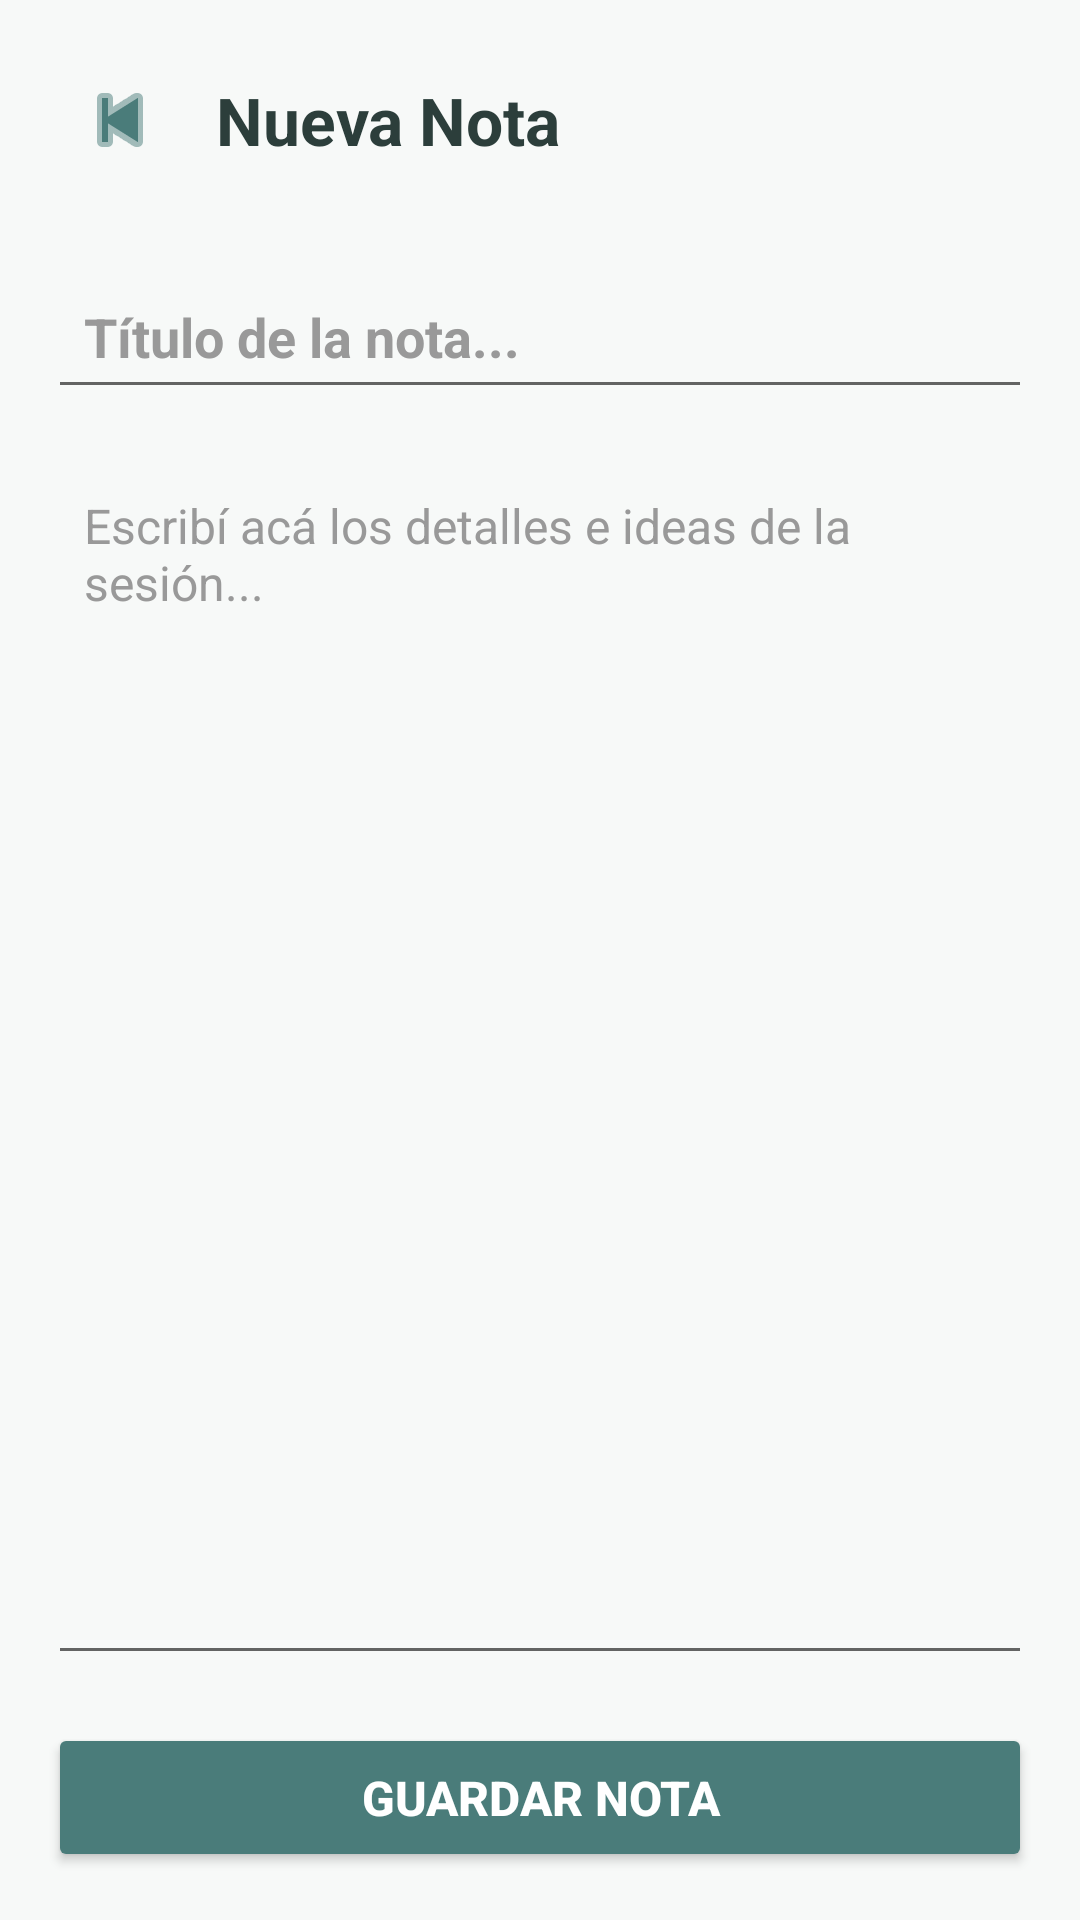

Icon bounding boxes for this 1080*1920 phone screenshot, format (x1, y1, x2, y2):
Volver: (97, 93, 143, 147)
